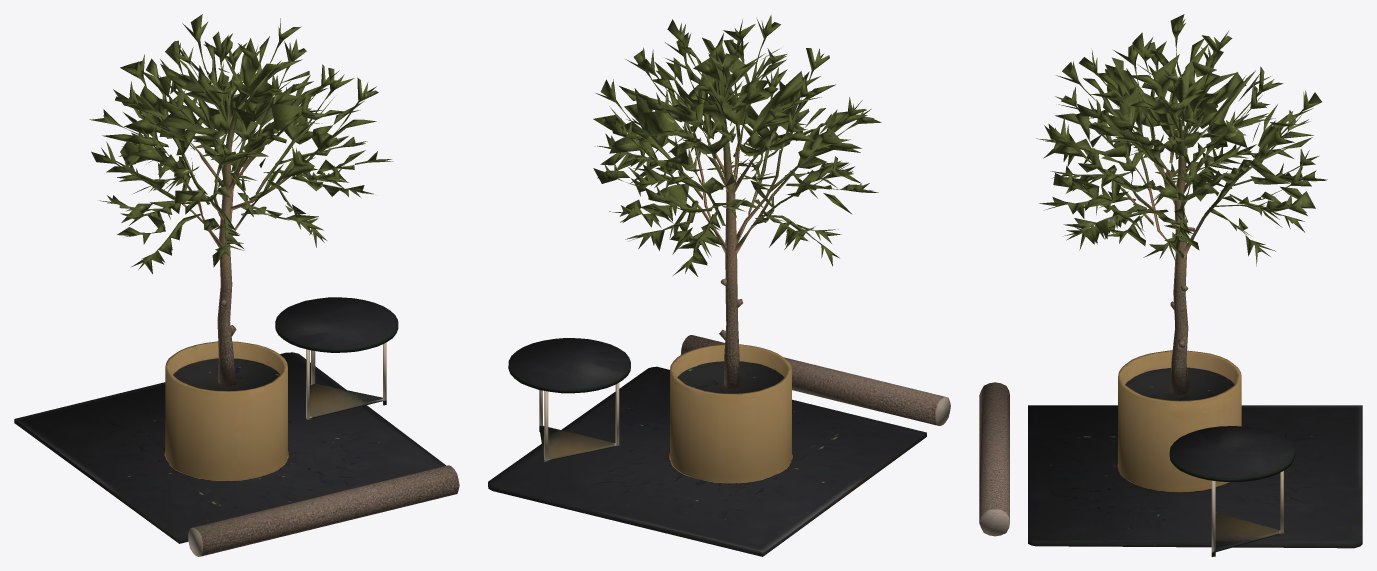
File: olive_v01.optimized.glb
The picture shows the model from 3 angles, left to right: view 1: azimuth 30°, elevation 25°; view 2: azimuth 150°, elevation 25°; view 3: azimuth 270°, elevation 25°; orthographic projection.
Visible parts, largest first — view 1: tripo_node_1f4c30ba-2adc-42eb-9c98-d0699962031e; view 2: tripo_node_1f4c30ba-2adc-42eb-9c98-d0699962031e; view 3: tripo_node_1f4c30ba-2adc-42eb-9c98-d0699962031e.
Boxes of the visible parts, box(x1,y1,x2,y2) form: tripo_node_1f4c30ba-2adc-42eb-9c98-d0699962031e: box(14, 14, 459, 556); tripo_node_1f4c30ba-2adc-42eb-9c98-d0699962031e: box(488, 15, 950, 556); tripo_node_1f4c30ba-2adc-42eb-9c98-d0699962031e: box(979, 14, 1362, 556).
Size of the model in its own units: 0.7677 by 0.998 by 0.7988.
1 material, 1 textured.
